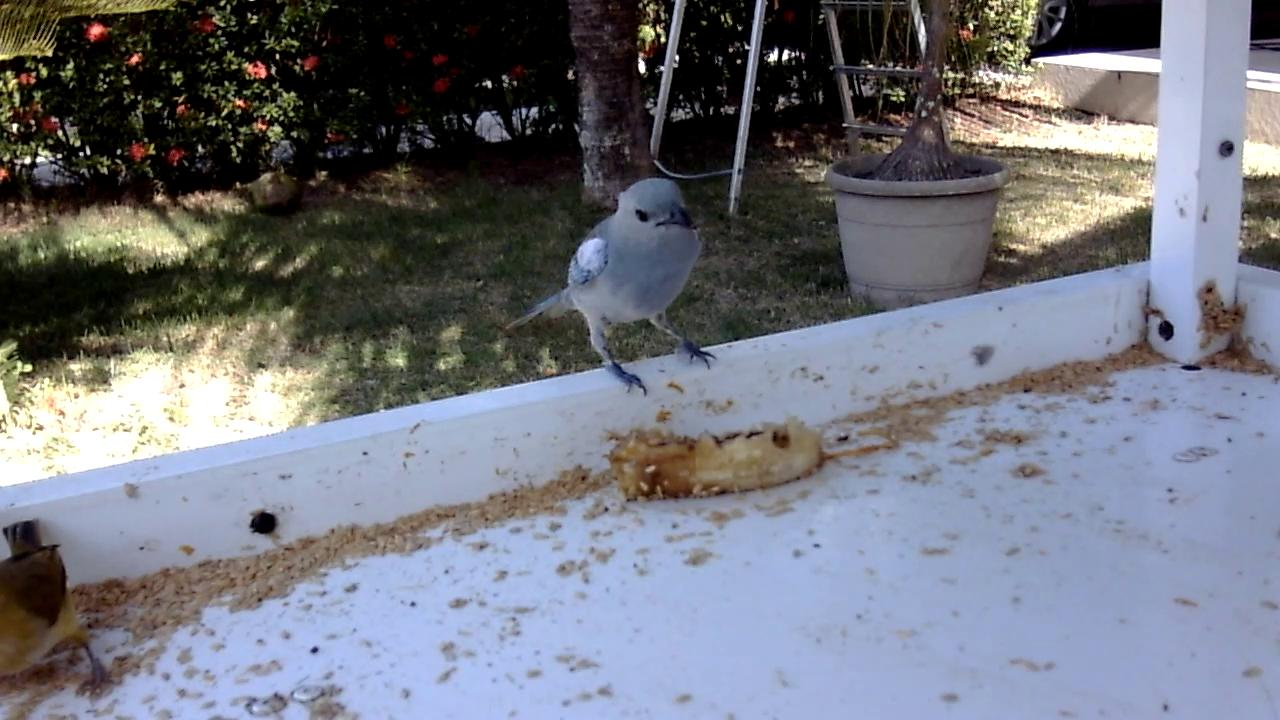canario_do_amazonas: (1, 519, 123, 709)
sanhaco_da_amazonia: (503, 177, 723, 400)
